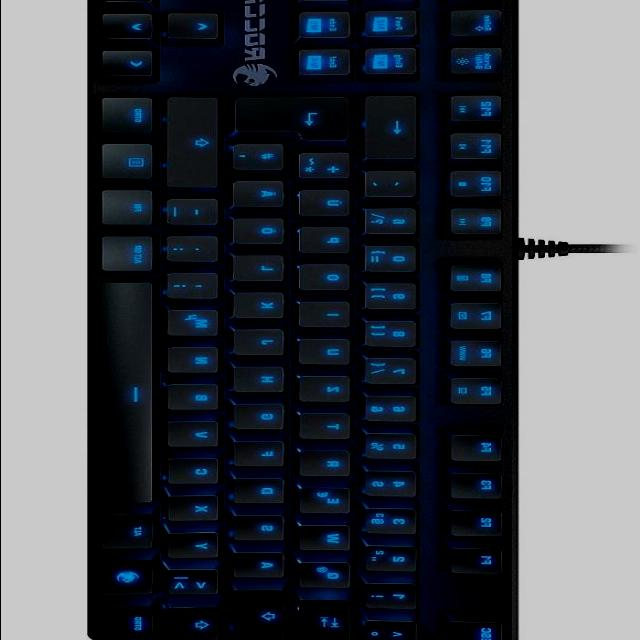0: (367, 246, 425, 276)
1: (367, 585, 423, 612)
2: (365, 547, 423, 574)
3: (365, 509, 423, 537)
4: (366, 472, 424, 500)
5: (365, 434, 423, 462)
6: (366, 396, 424, 425)
7: (366, 359, 424, 388)
8: (366, 321, 424, 351)
9: (366, 284, 424, 314)
a: (235, 555, 291, 581)
accent: (368, 172, 424, 201)
ae: (234, 182, 292, 211)
alt-left: (104, 516, 160, 552)
altgr-right: (103, 237, 161, 276)
b: (169, 385, 227, 413)
c: (170, 460, 226, 488)
caret: (367, 623, 423, 640)
comma: (169, 275, 227, 303)
d: (235, 480, 291, 506)
del: (366, 97, 424, 165)
e: (301, 489, 359, 517)
enter: (236, 99, 360, 146)
f: (235, 443, 291, 469)
g: (236, 406, 291, 433)
h: (235, 368, 291, 396)
hash: (235, 146, 293, 174)
i: (303, 303, 359, 331)
j: (235, 330, 291, 358)
k: (235, 294, 293, 322)
keyboard: (82, 0, 529, 640)
l: (235, 257, 291, 285)
less: (169, 572, 227, 599)
m: (169, 310, 227, 340)
minus: (169, 200, 227, 229)
n: (169, 348, 227, 376)
o: (301, 265, 359, 294)
oe: (235, 219, 291, 248)
p: (301, 228, 359, 258)
plus: (299, 154, 359, 184)
point: (169, 238, 227, 266)
q: (300, 564, 358, 591)
r: (301, 453, 359, 480)
s: (235, 517, 291, 544)
shift-left: (169, 610, 226, 640)
shift-lock: (234, 590, 290, 640)
shift-right: (168, 98, 226, 191)
space: (102, 281, 162, 509)
ss: (366, 209, 424, 239)
strg-left: (104, 608, 160, 640)
strg-right: (103, 98, 161, 138)
t: (301, 415, 359, 442)
tab: (300, 601, 358, 640)
u: (301, 340, 359, 368)
ue: (301, 191, 359, 220)
v: (170, 423, 228, 451)
w: (301, 528, 359, 554)
x: (170, 498, 226, 524)
y: (170, 535, 226, 562)
z: (301, 378, 359, 406)
